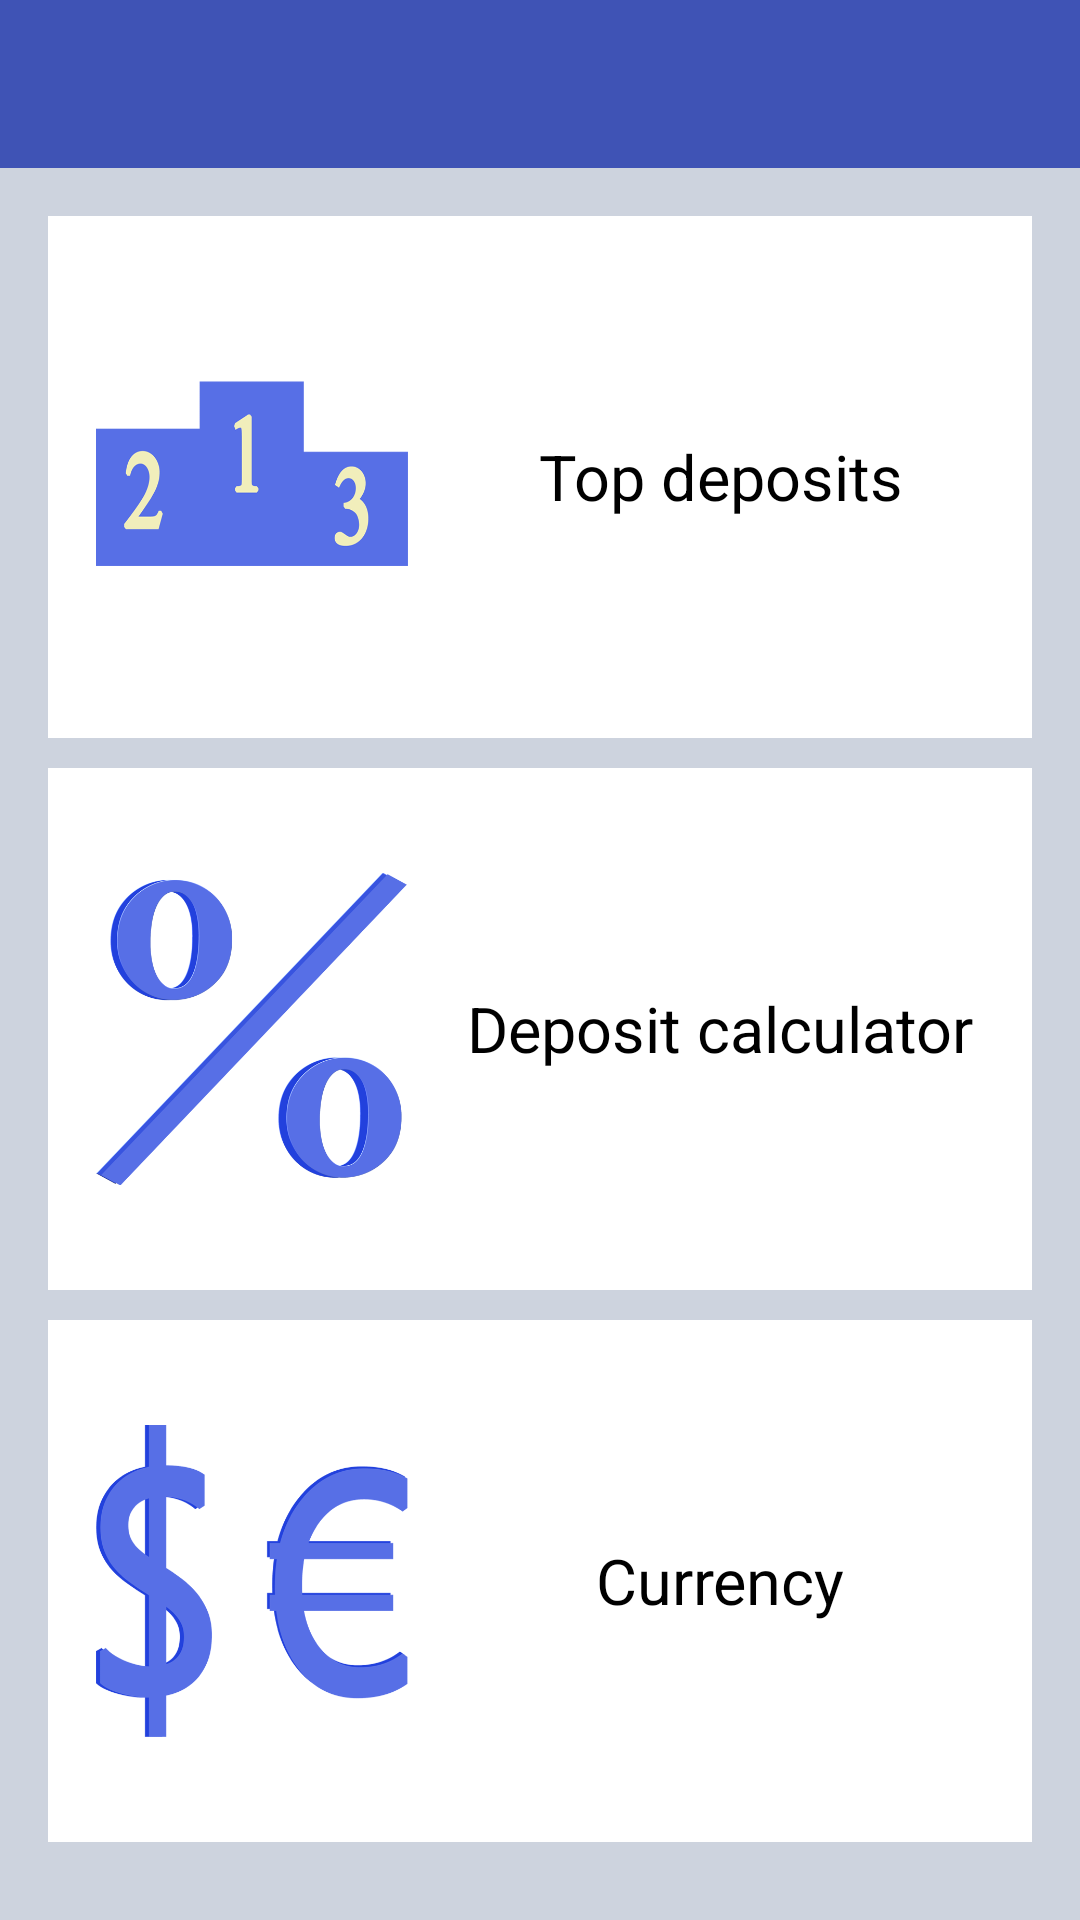

Screen size 1080*1920. Icon name, then its center in pixels as [x,y]:
calculate: [251,1029]
rating: [252,473]
